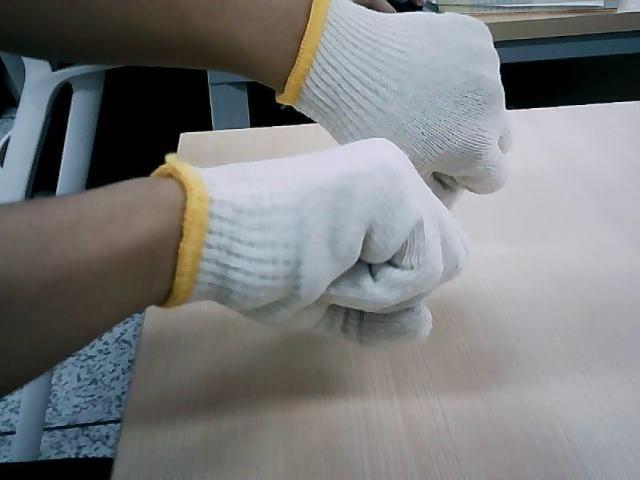Hand-in-Glove: (178, 138, 470, 347), (278, 2, 510, 131)
